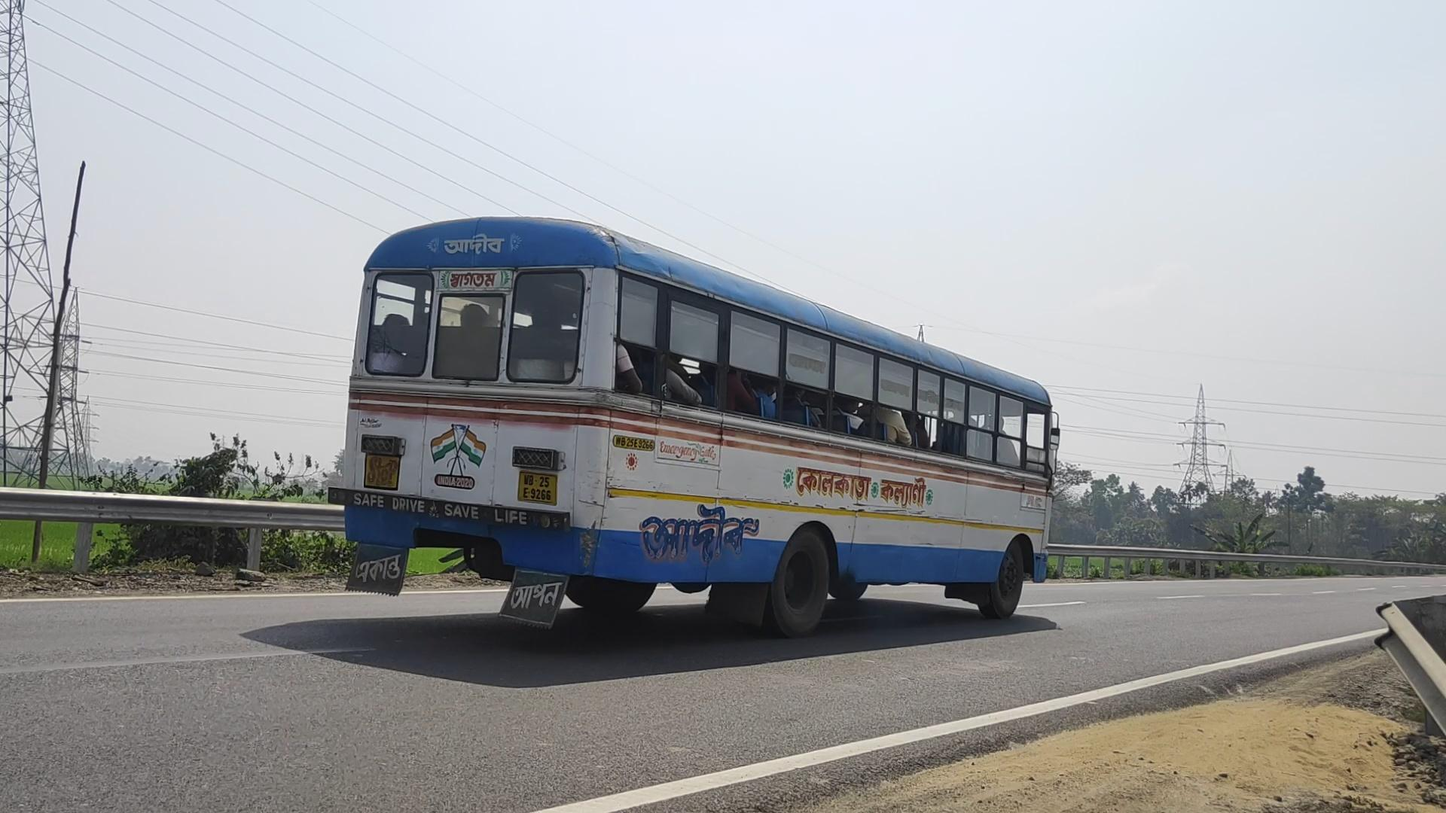Bus: (328, 216, 1060, 638)
